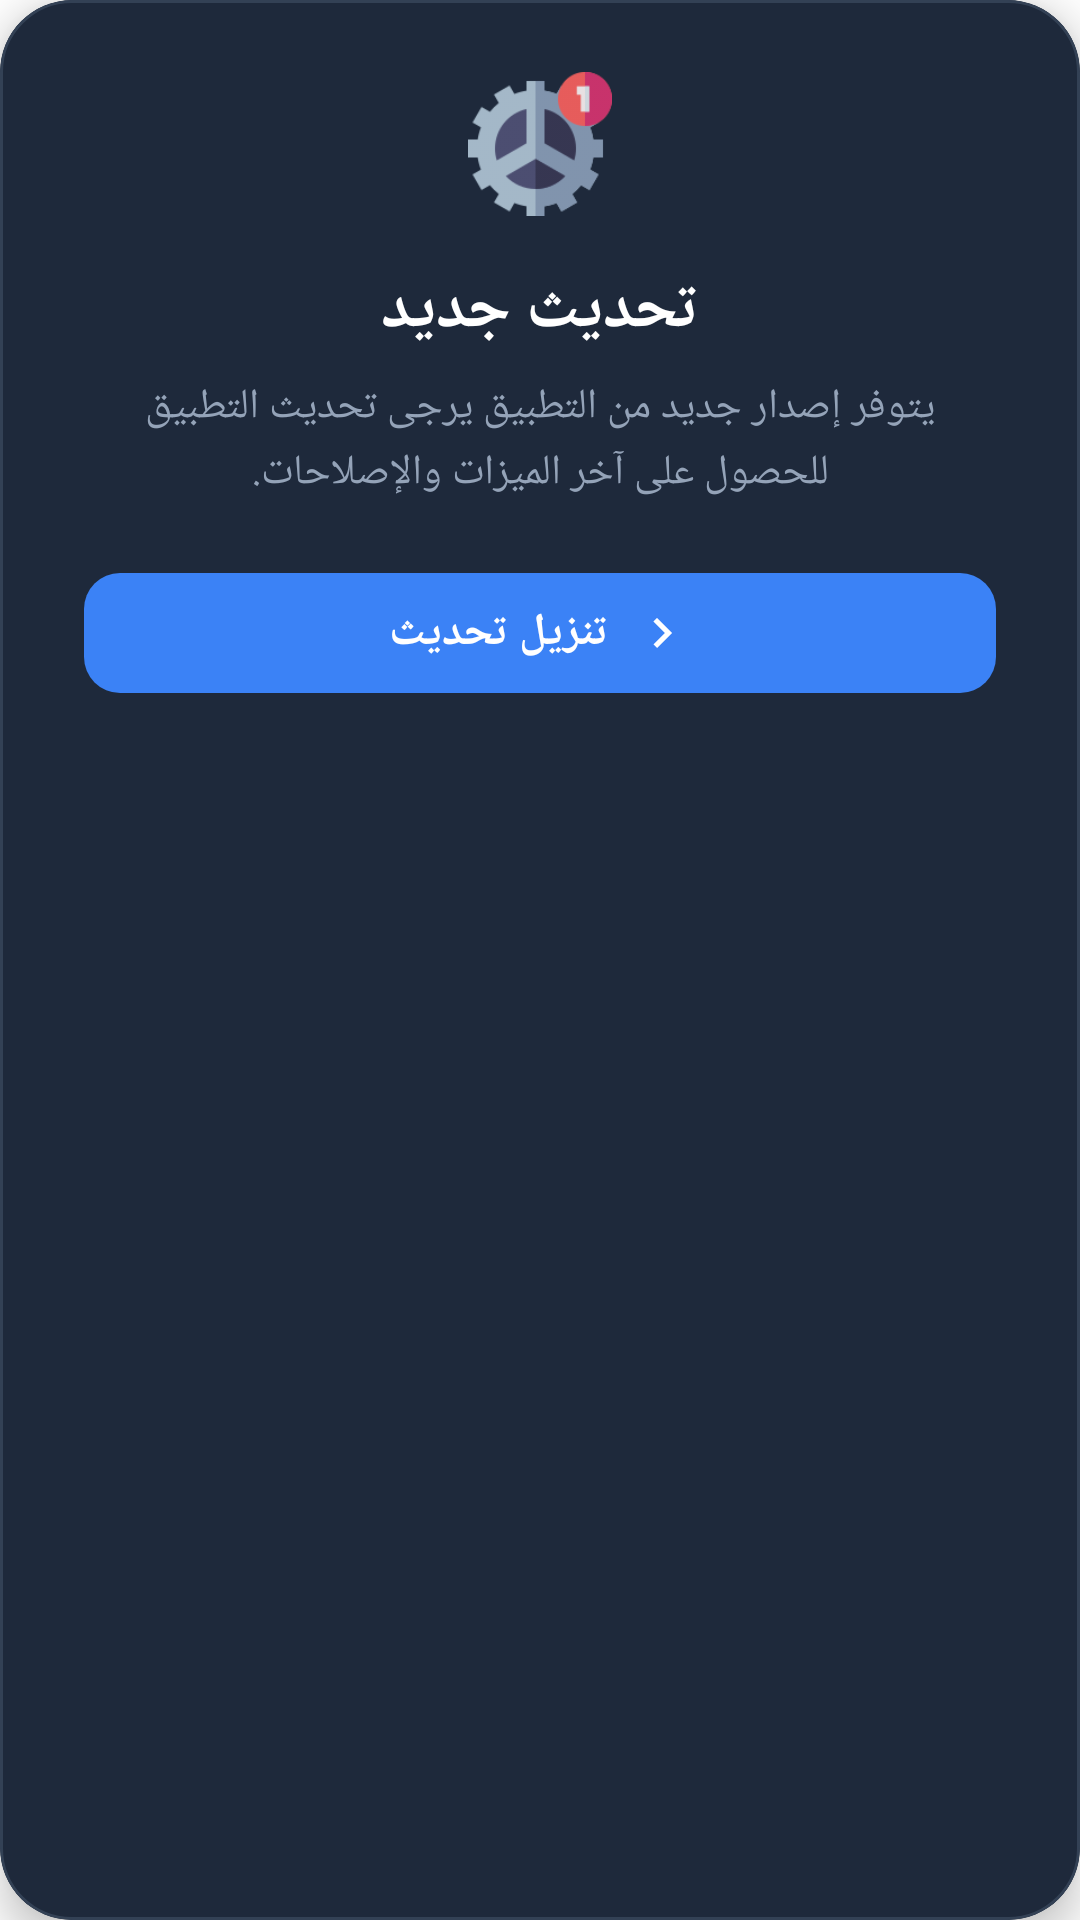

Named icons in this screenshot (1080w x 1920h) and their bounding boxes, box(x1, y1, x2, y2):
newupdate: box(468, 72, 612, 216)
